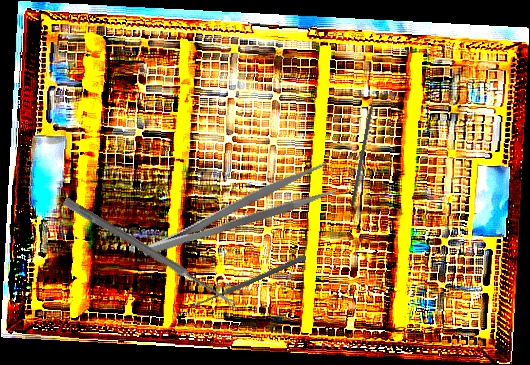Dressing Forceps: (134, 160, 338, 262)
Hook Surgical: (350, 88, 379, 207)
Surgical Spoon: (61, 196, 240, 310), (189, 253, 307, 311)
